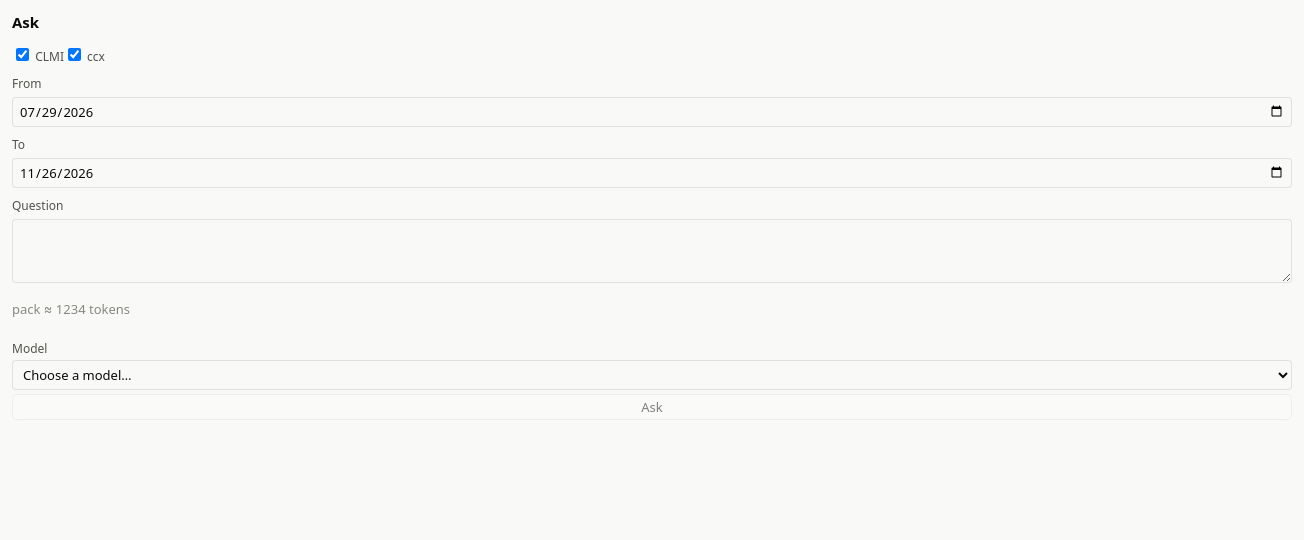
Scenario: AskPanel › shows the pack size, asks with the selected slugs and renders the answer
The image size is (1304, 540).
Expected: the text "pack ≈ 1234 tokens" is shown, [12, 300, 130, 318]
Click the checkbox labelled "ccx" at [74, 54], box [68, 48, 81, 61]
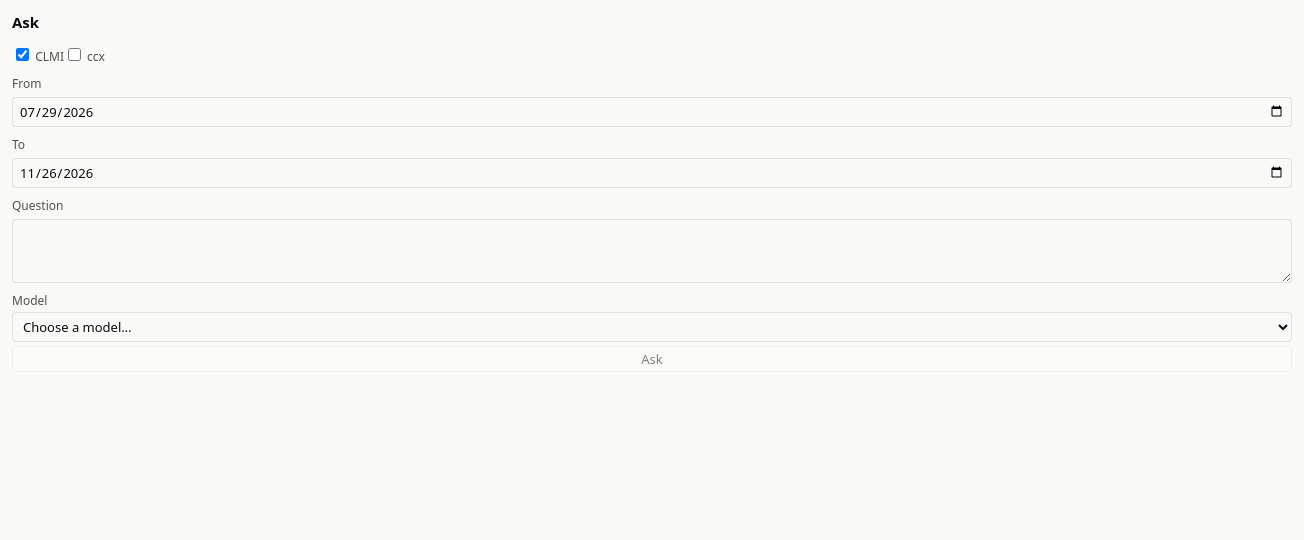
Type "What is blocked?" into the text box labelled "Question" at [652, 251], box [12, 219, 1292, 283]
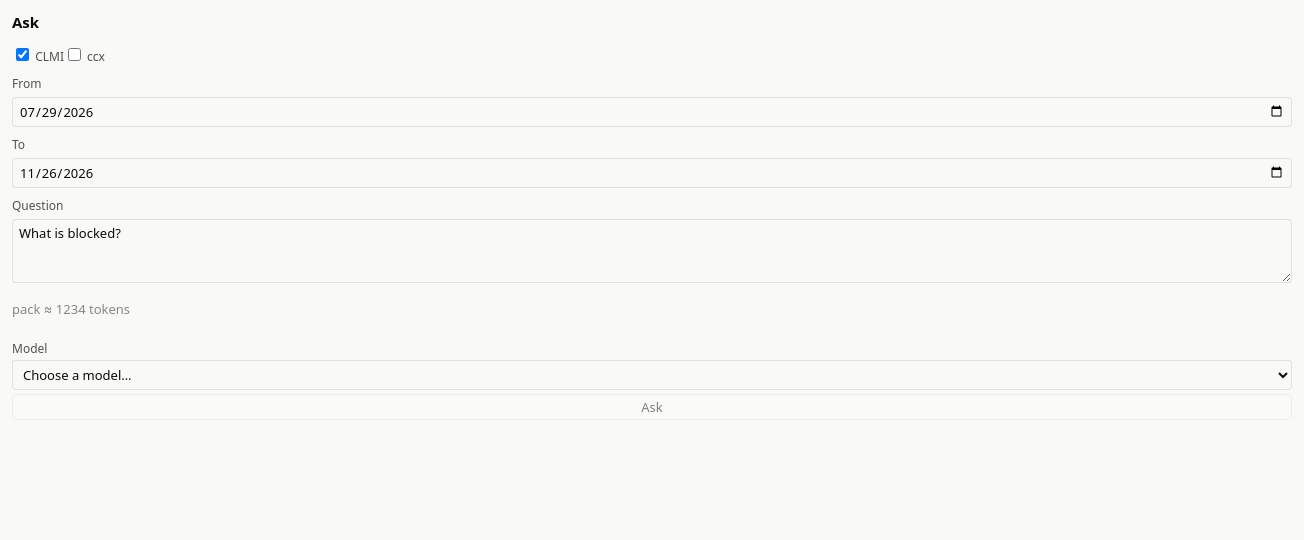
Select "claude-fable-5-1" in the dropdown labelled "Model" at [652, 375], box [12, 360, 1292, 390]
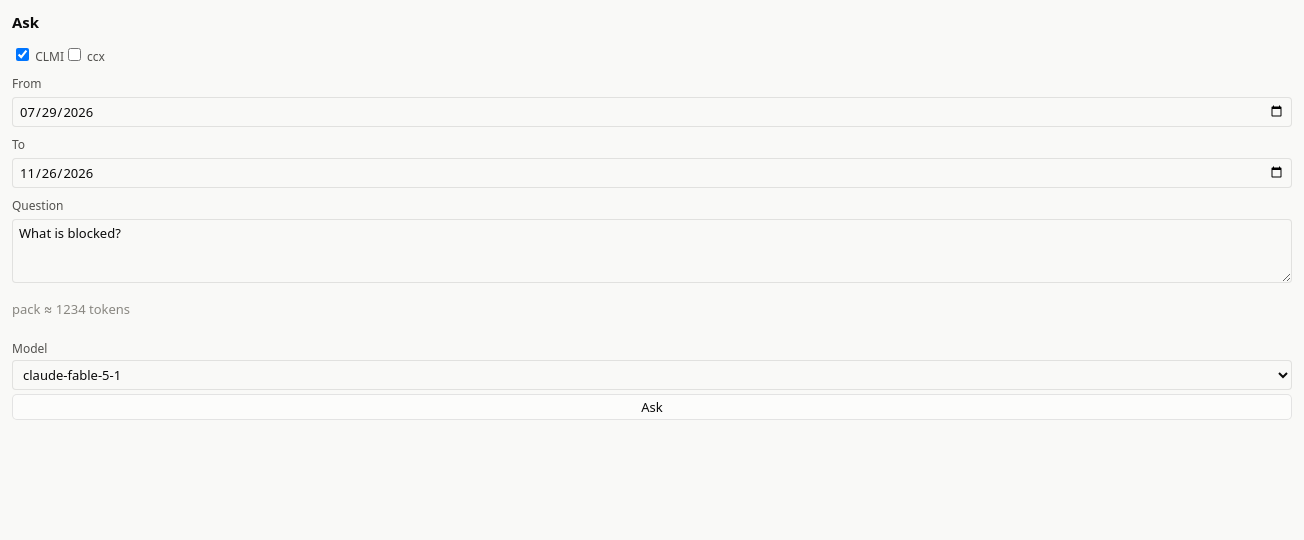
Click the button "Ask" at [652, 407], box [12, 394, 1292, 420]
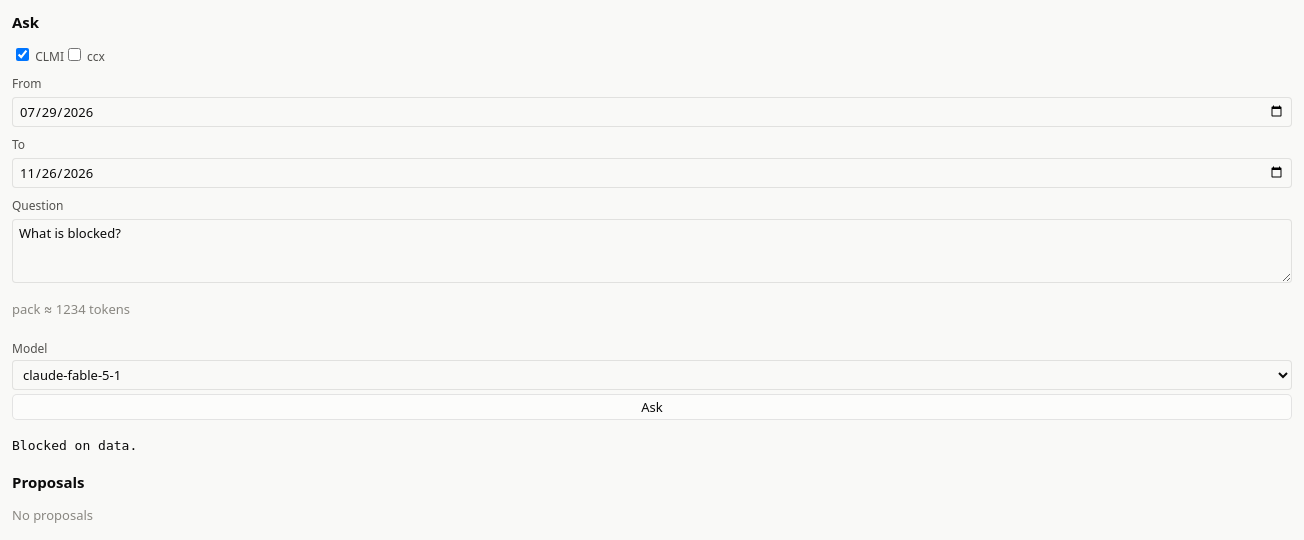
Expected: the text "Blocked on data." is shown, [12, 438, 137, 453]
